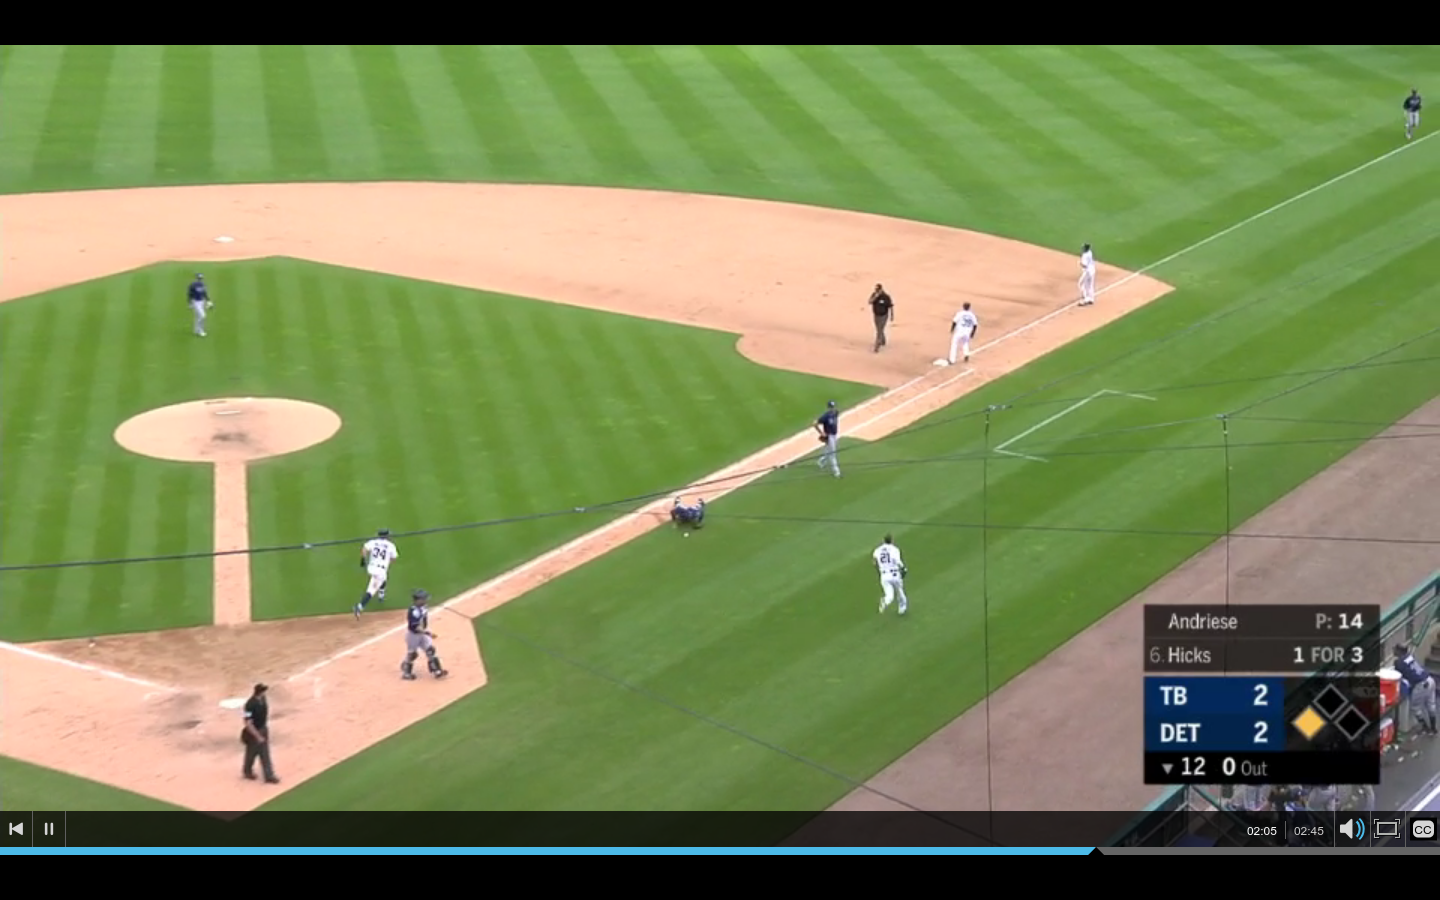baseball: (678, 526, 693, 542)
baseball player: (398, 588, 452, 692), (345, 525, 398, 628), (865, 528, 912, 619), (810, 397, 847, 486), (942, 296, 984, 366), (181, 272, 219, 345), (1068, 239, 1105, 309), (1396, 83, 1427, 143), (670, 491, 712, 531)
referee: (235, 682, 282, 799), (864, 277, 901, 359)
